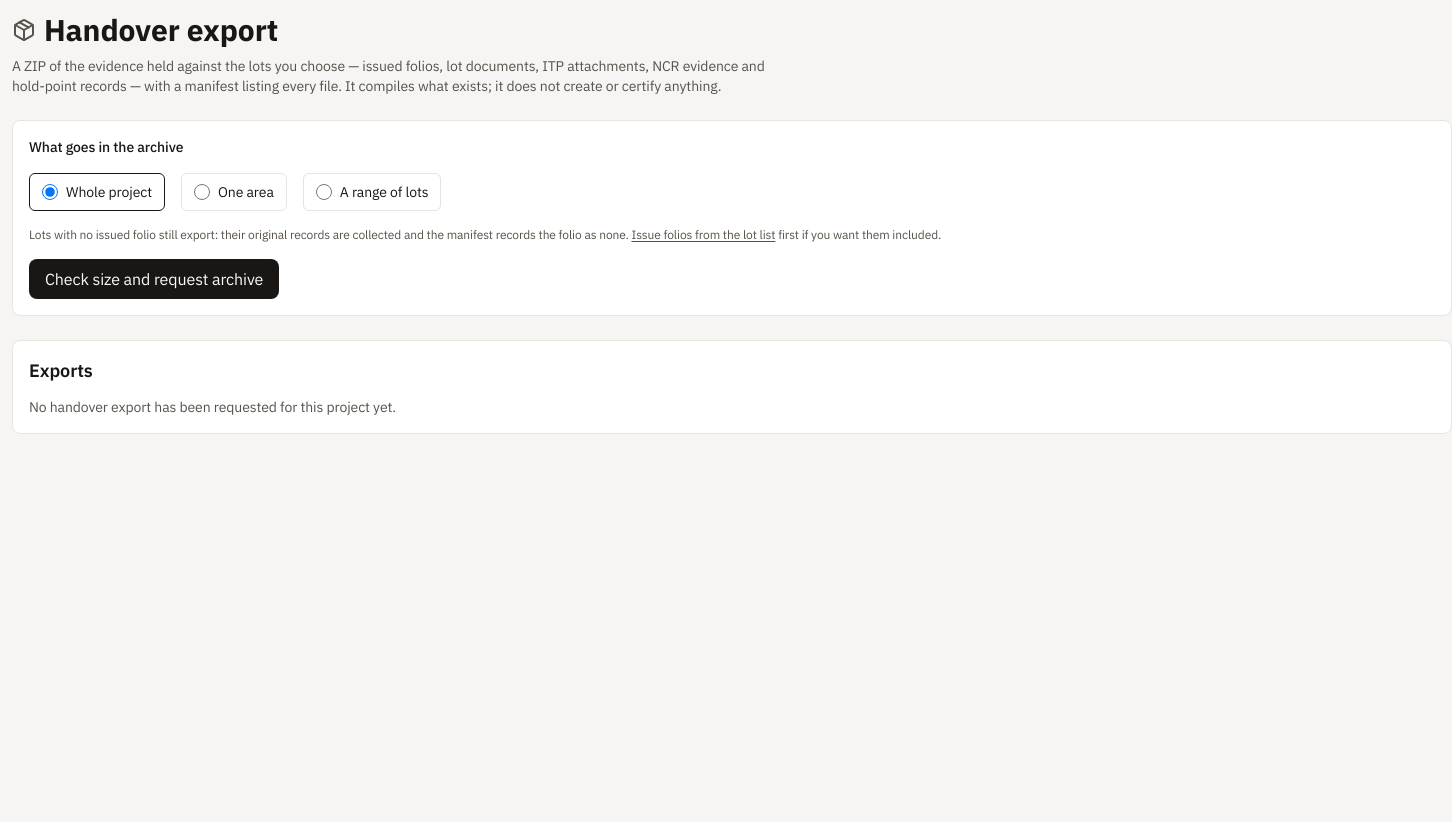
Test case: handover export preflight › states how many archives an over-cap scope implies, with the refusal as the next step
This screenshot has width=1452, height=822.
Click the button "Check size and request archive".
click(154, 279)  # box [29,259,279,299]
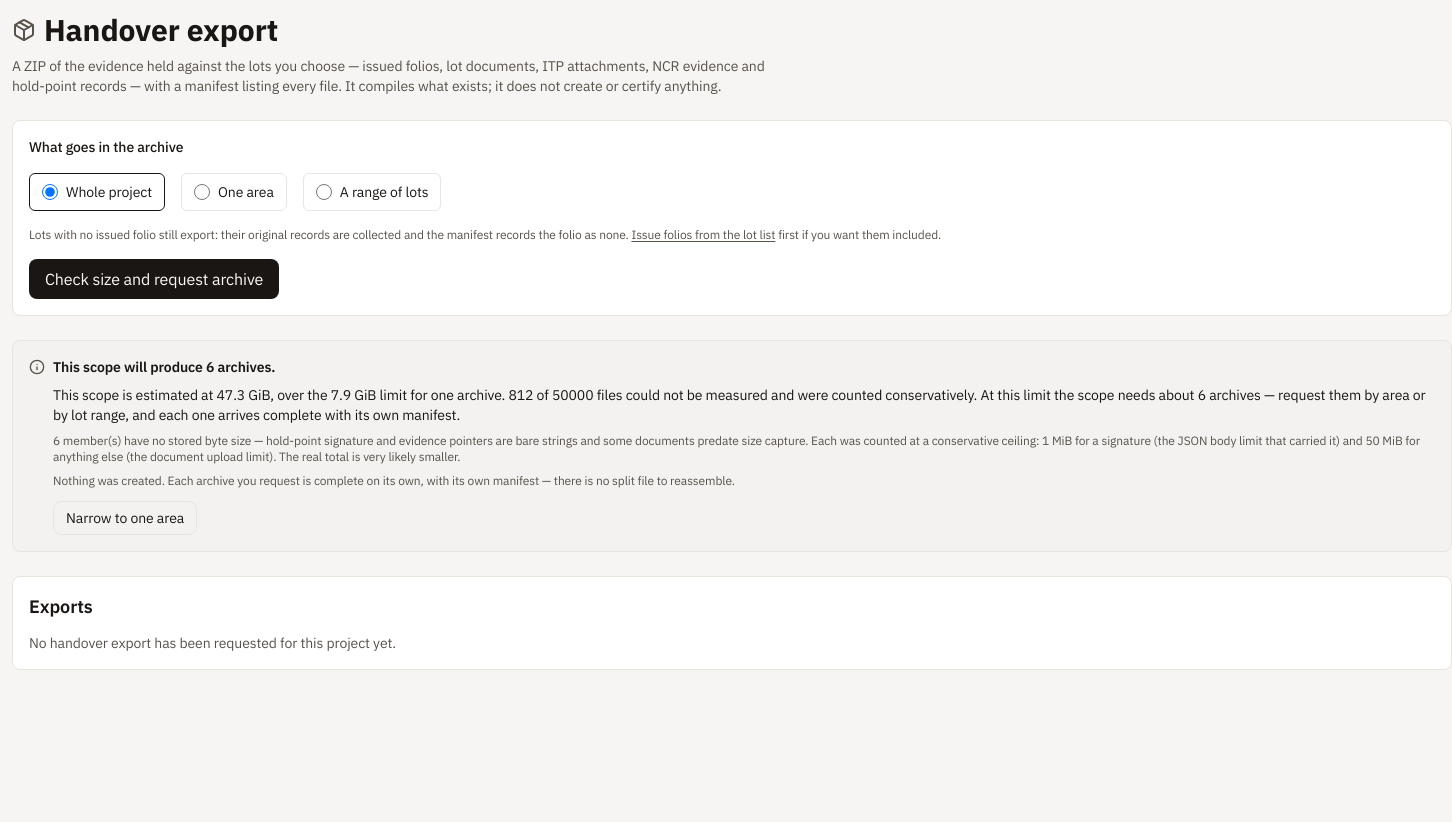
Expected: the heading "This scope will produce 6 archives." is shown, [53,358,275,376]
Expected: the button "Narrow to one area" is shown
Click the button "Narrow to one area".
click(125, 518)  # box [53,501,197,535]
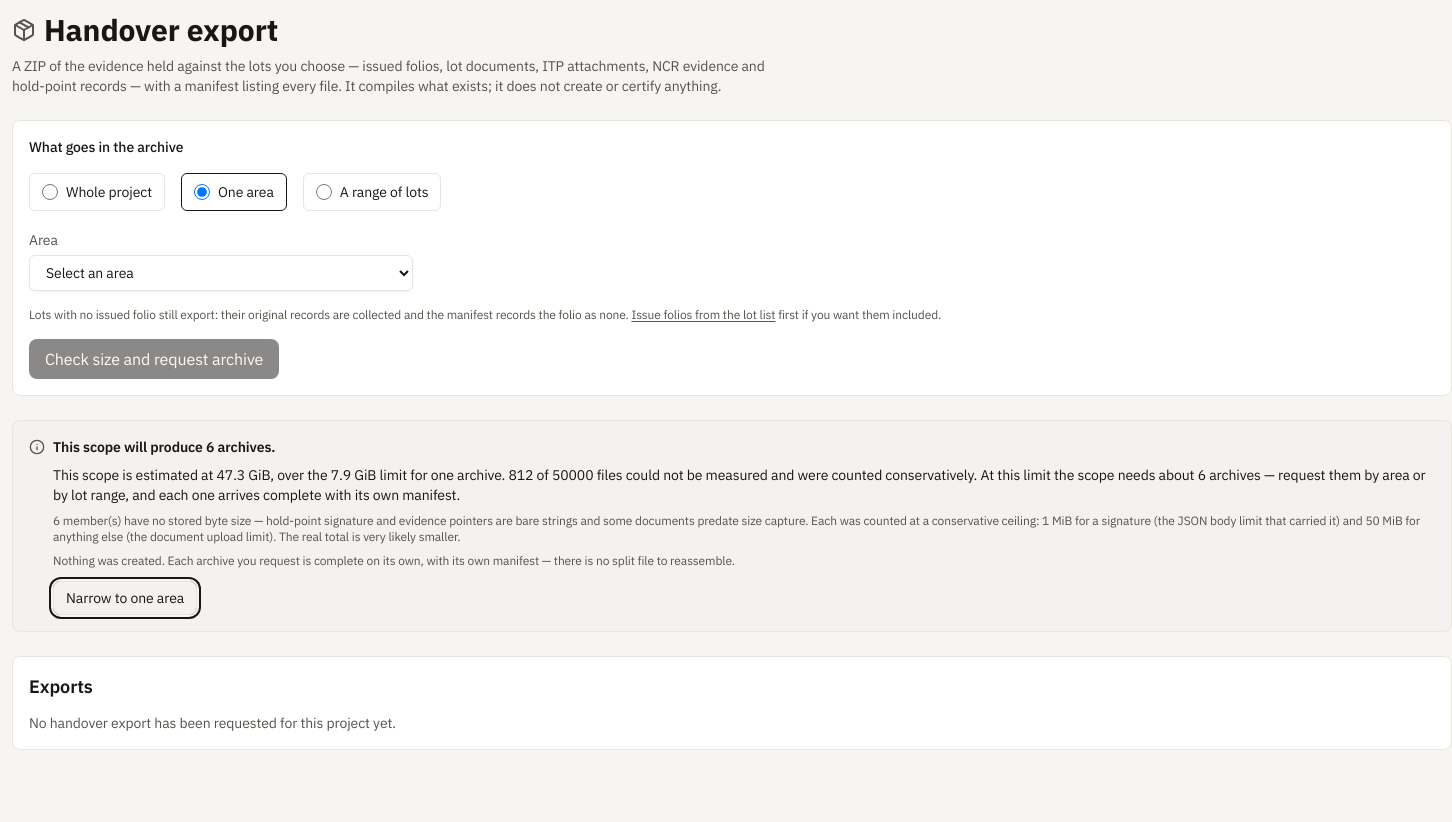
Expected: the dropdown labelled "Area" is shown, [29,255,413,291]
